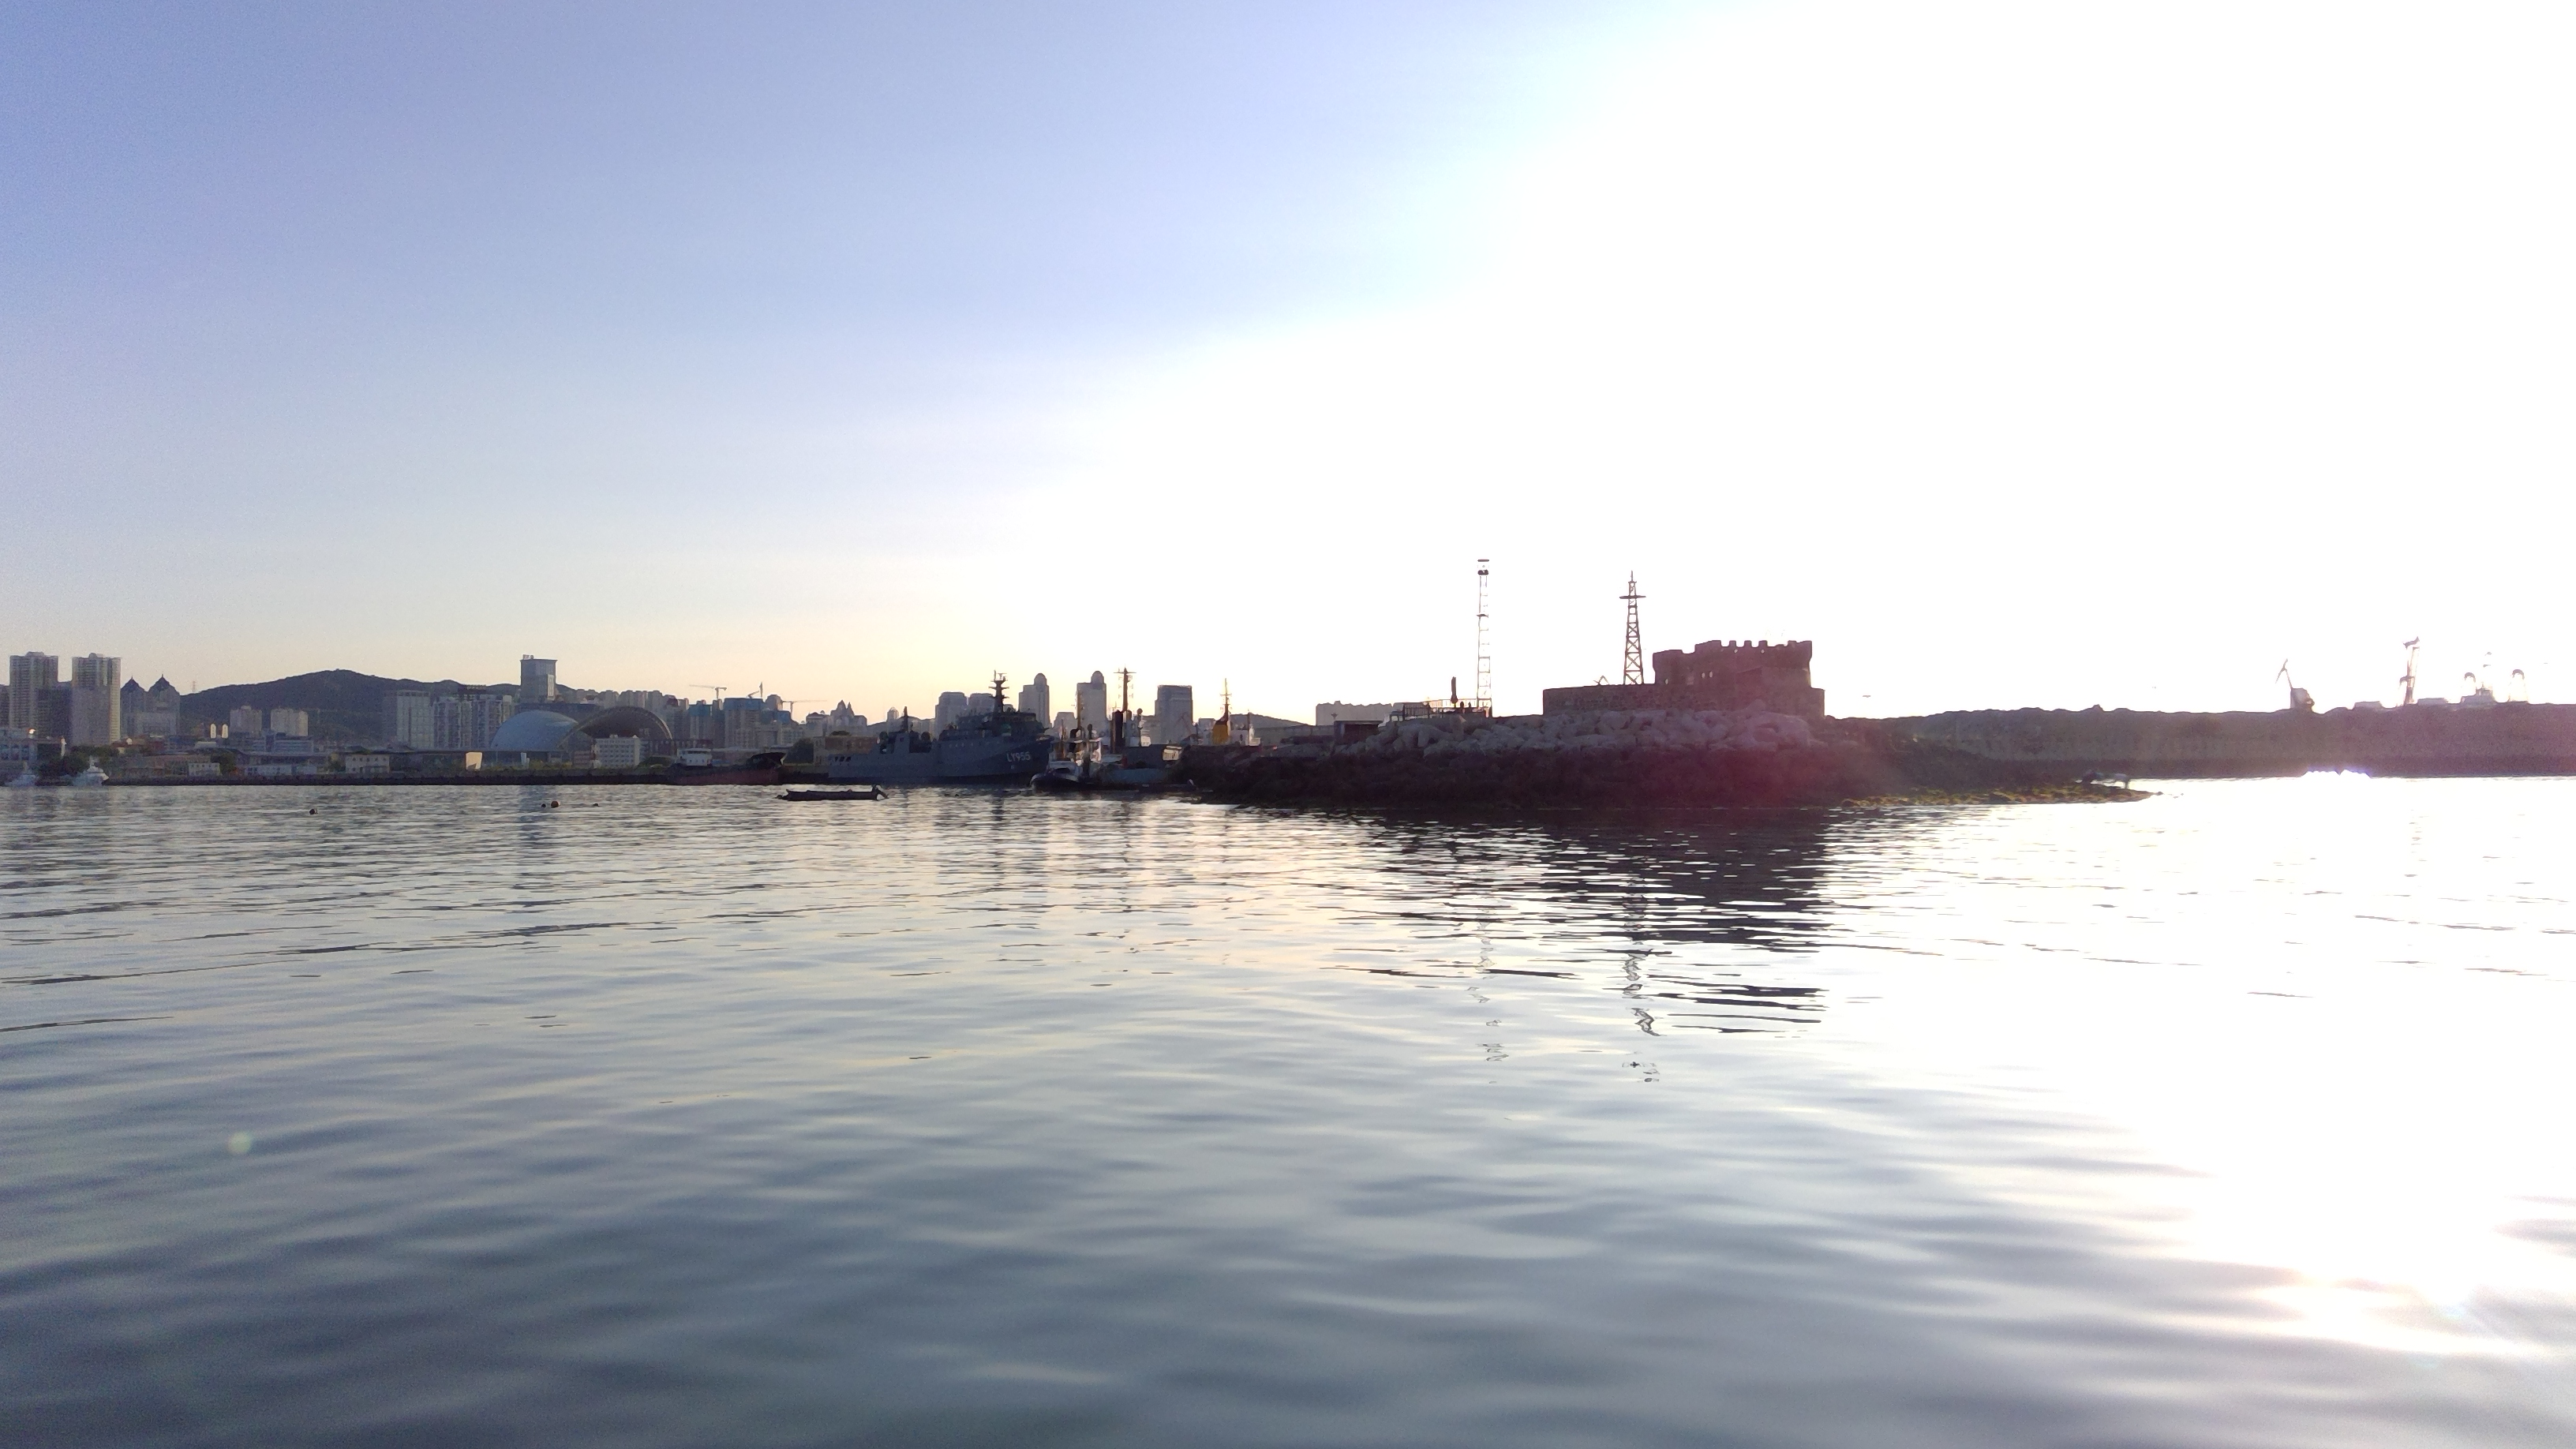ship: (771, 780, 893, 812)
